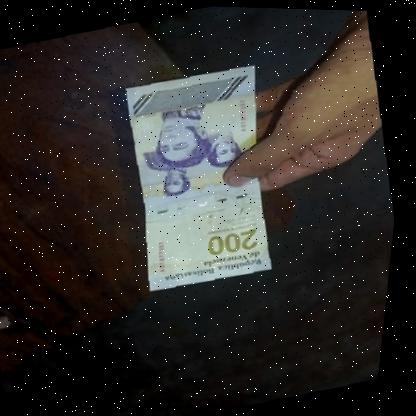two_hundred-front-vef: (109, 58, 299, 294)
